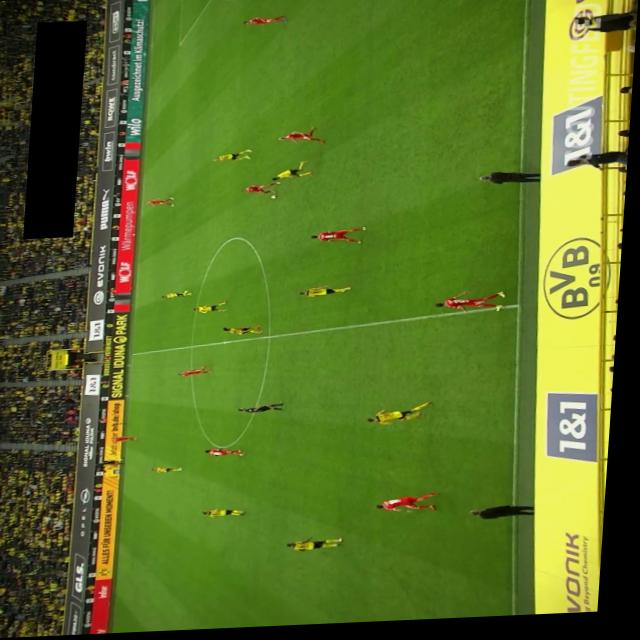player: (438, 293, 511, 318), (372, 405, 439, 429), (382, 495, 447, 518), (314, 229, 370, 248), (280, 128, 328, 149), (293, 538, 351, 555), (274, 162, 317, 183), (303, 287, 357, 300), (196, 302, 233, 316), (244, 184, 283, 197), (243, 17, 288, 28), (209, 509, 254, 520), (215, 151, 255, 163), (227, 326, 268, 337), (210, 449, 254, 459), (182, 368, 218, 378), (147, 197, 177, 208), (165, 292, 197, 300), (157, 467, 189, 474), (118, 436, 144, 443)
referee: (243, 404, 290, 415), (105, 458, 134, 465)
